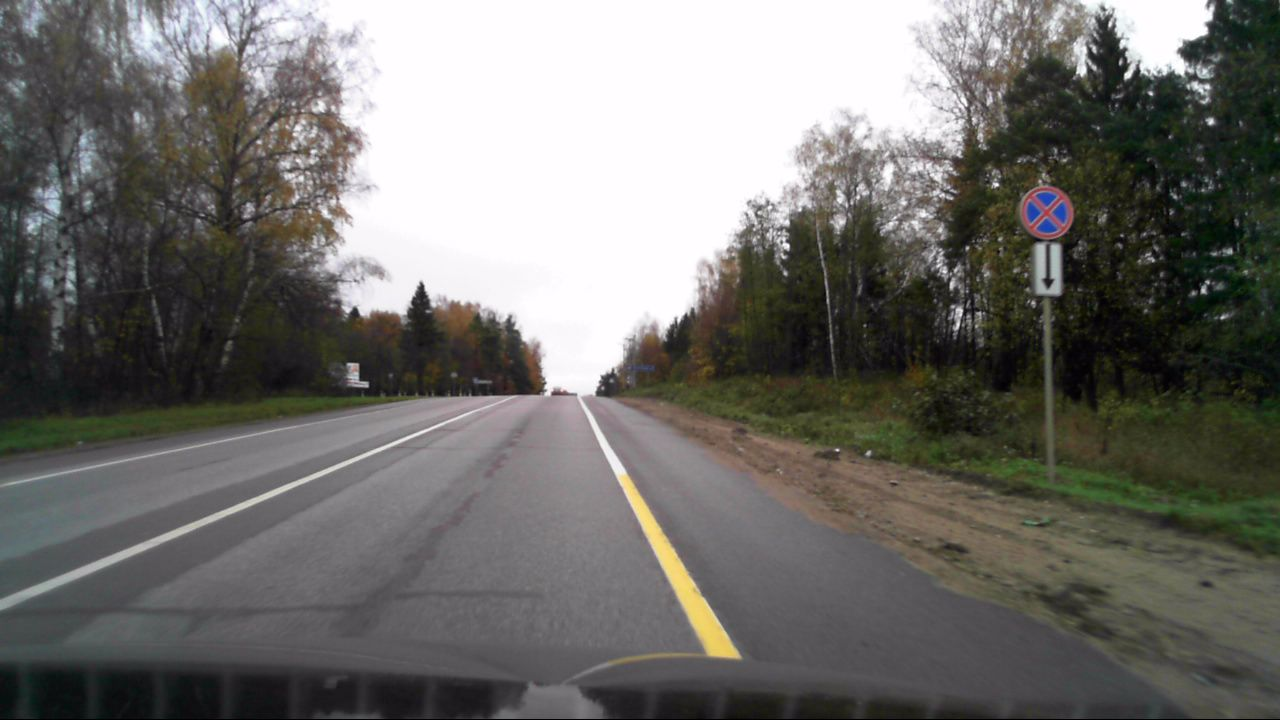No Parking: (1020, 187, 1073, 242)
